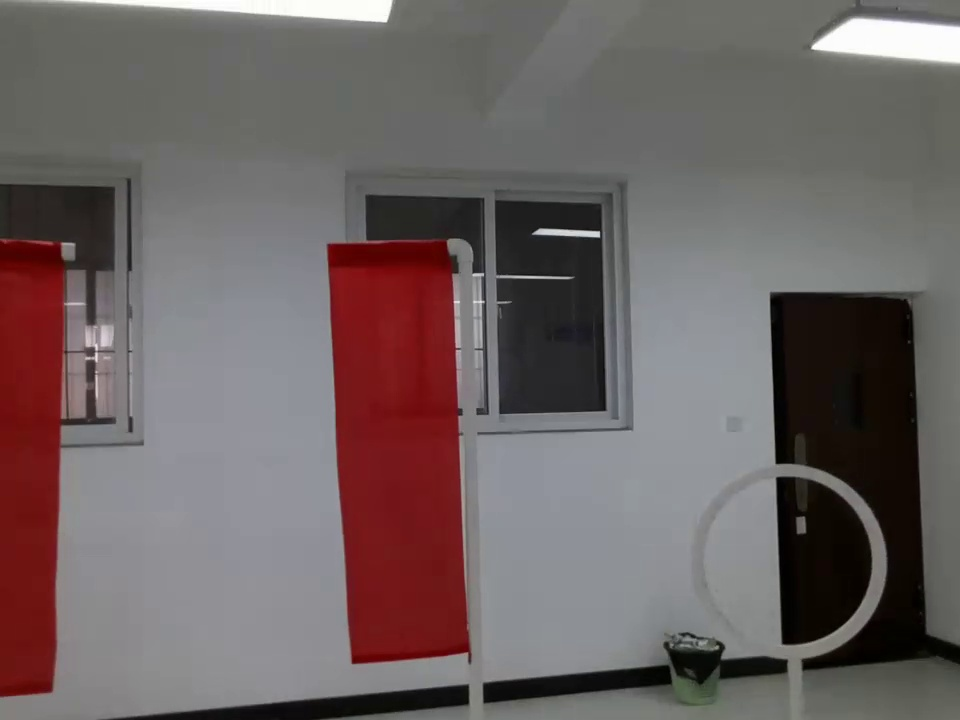qi: (318, 233, 488, 677), (1, 233, 77, 698)
quan: (672, 460, 890, 667)
